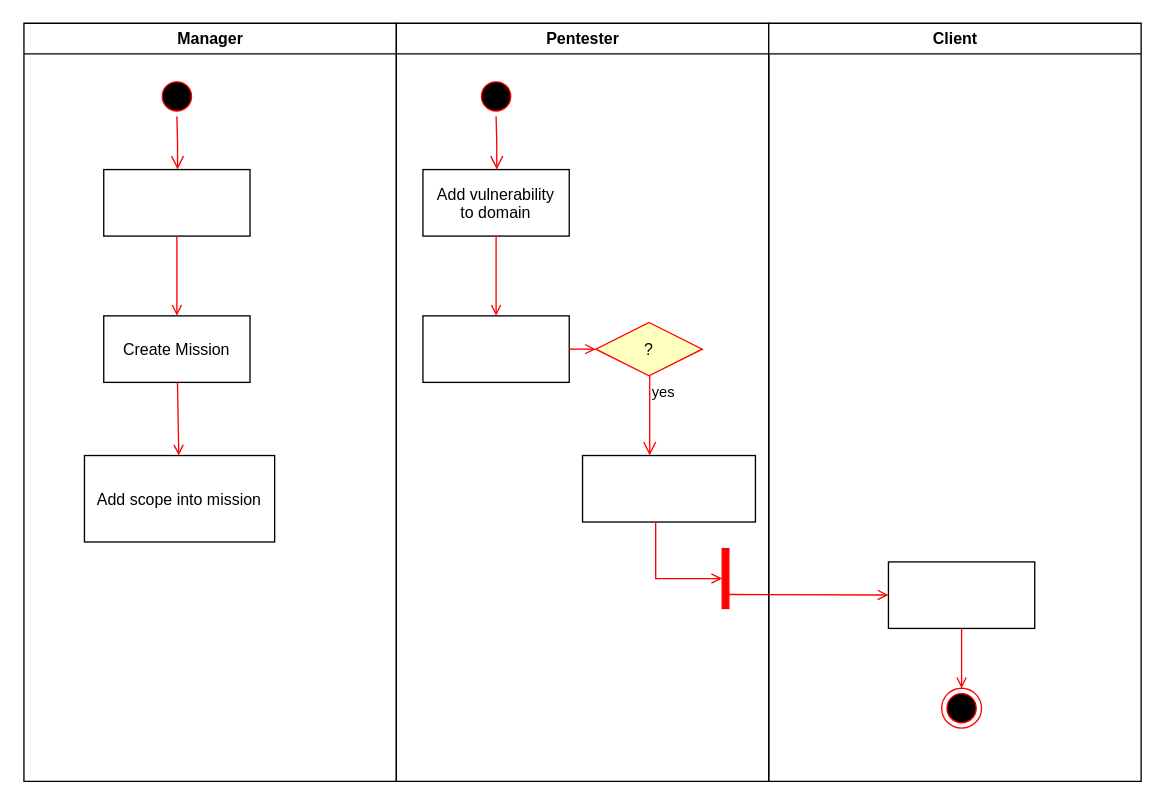
Image size: 1164x805. Some labels were removed from this diagram. Each missing label, with the centre of its shape:
"Create client" belongs at point 176,202.
"Generate report" belongs at point 495,348.
"Read report" belongs at point 961,594.
"Send report to client" belongs at point 668,488.
